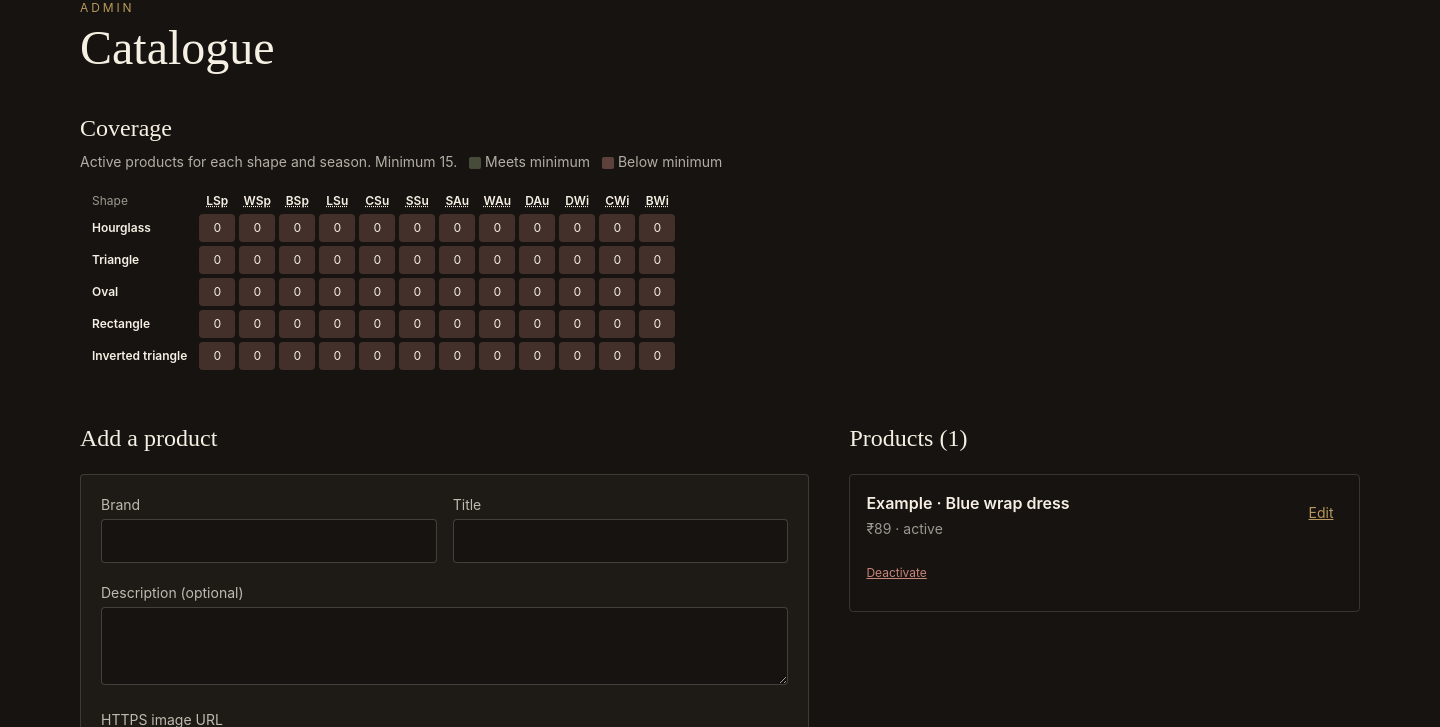
Test: catalogue admin interactions › announces a saved confirmation after a successful update
Click the button "Edit": (1321, 513) [1299,491,1343,535]
(page scrolled)
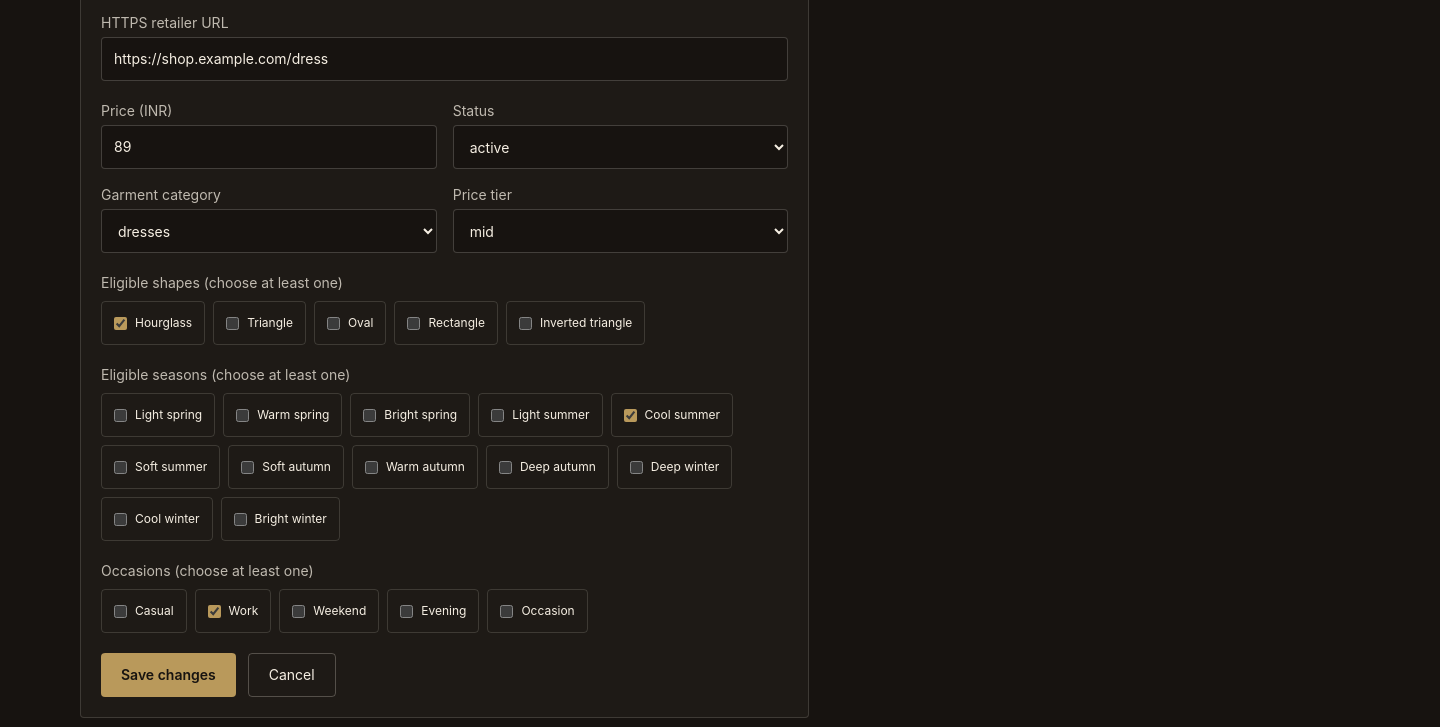
Click the button "Save changes": (168, 675) [101,653,236,697]
(page scrolled)
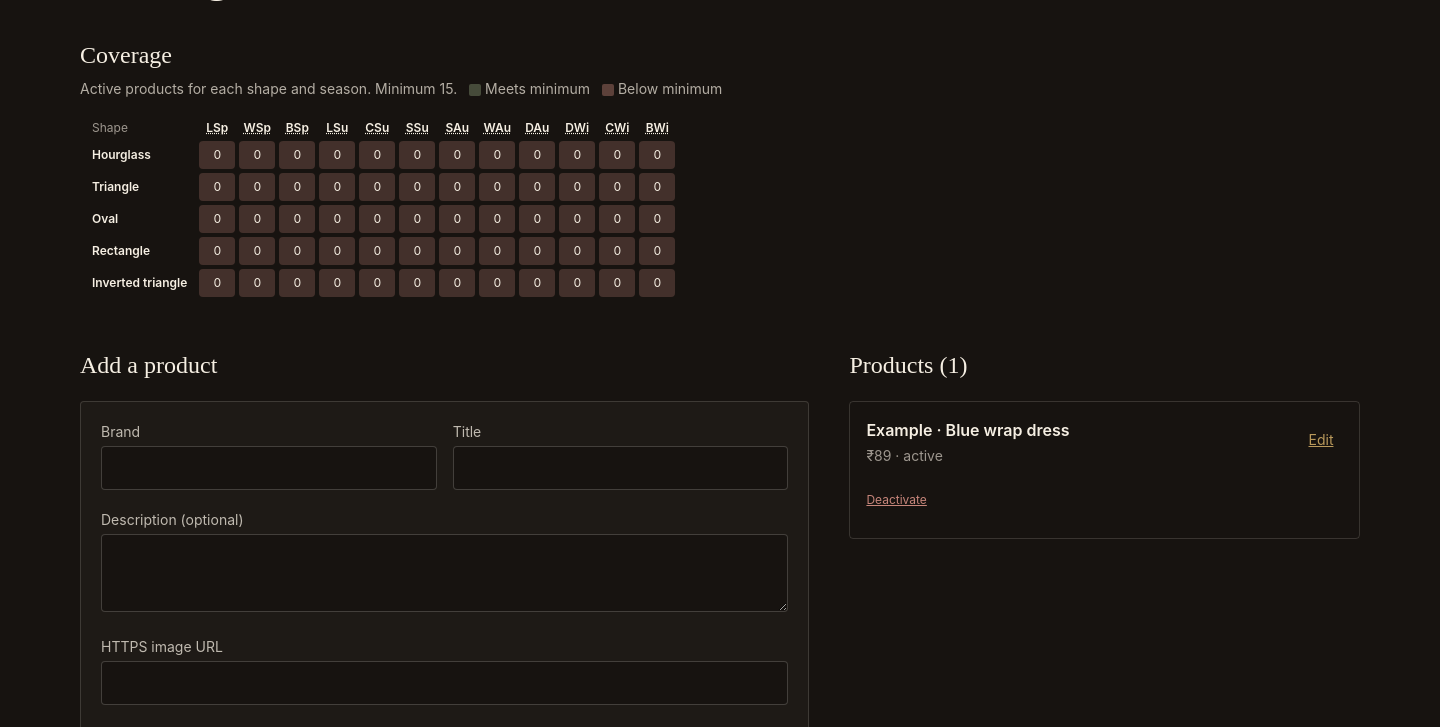
Check: the heading "Add a product" is shown, box [80,352,217,378]
